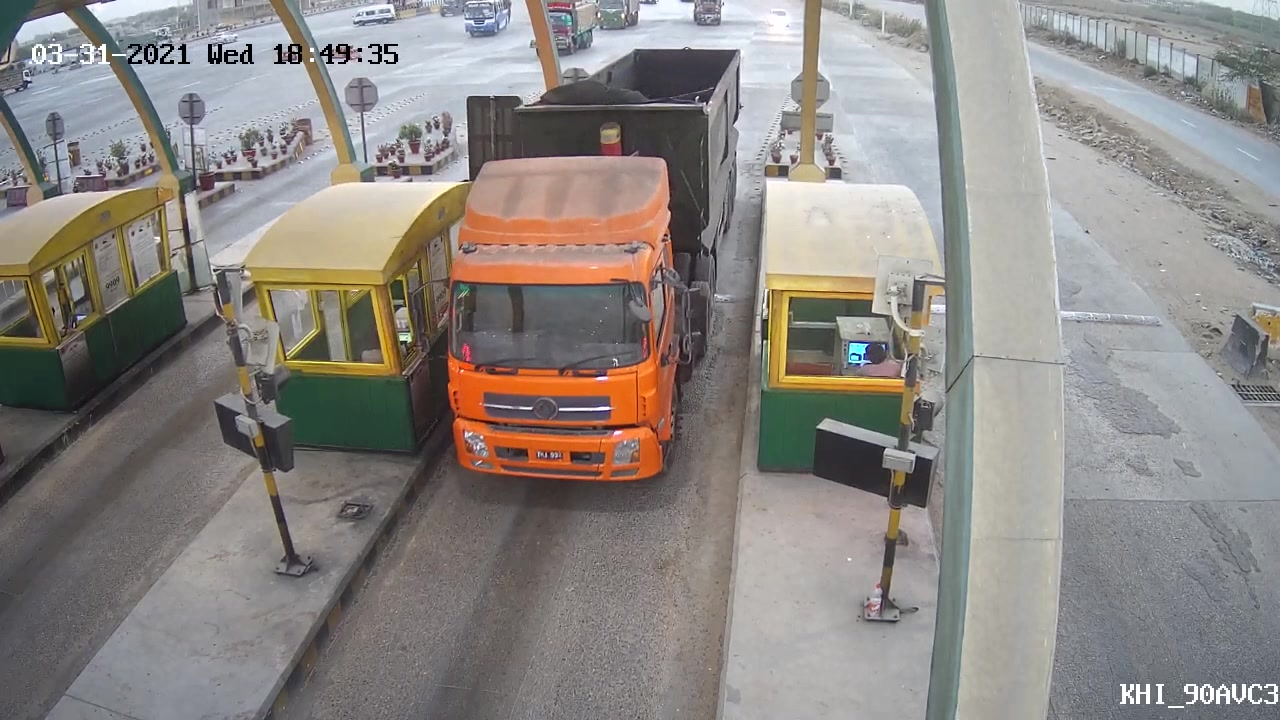F5: (415, 43, 762, 491)
